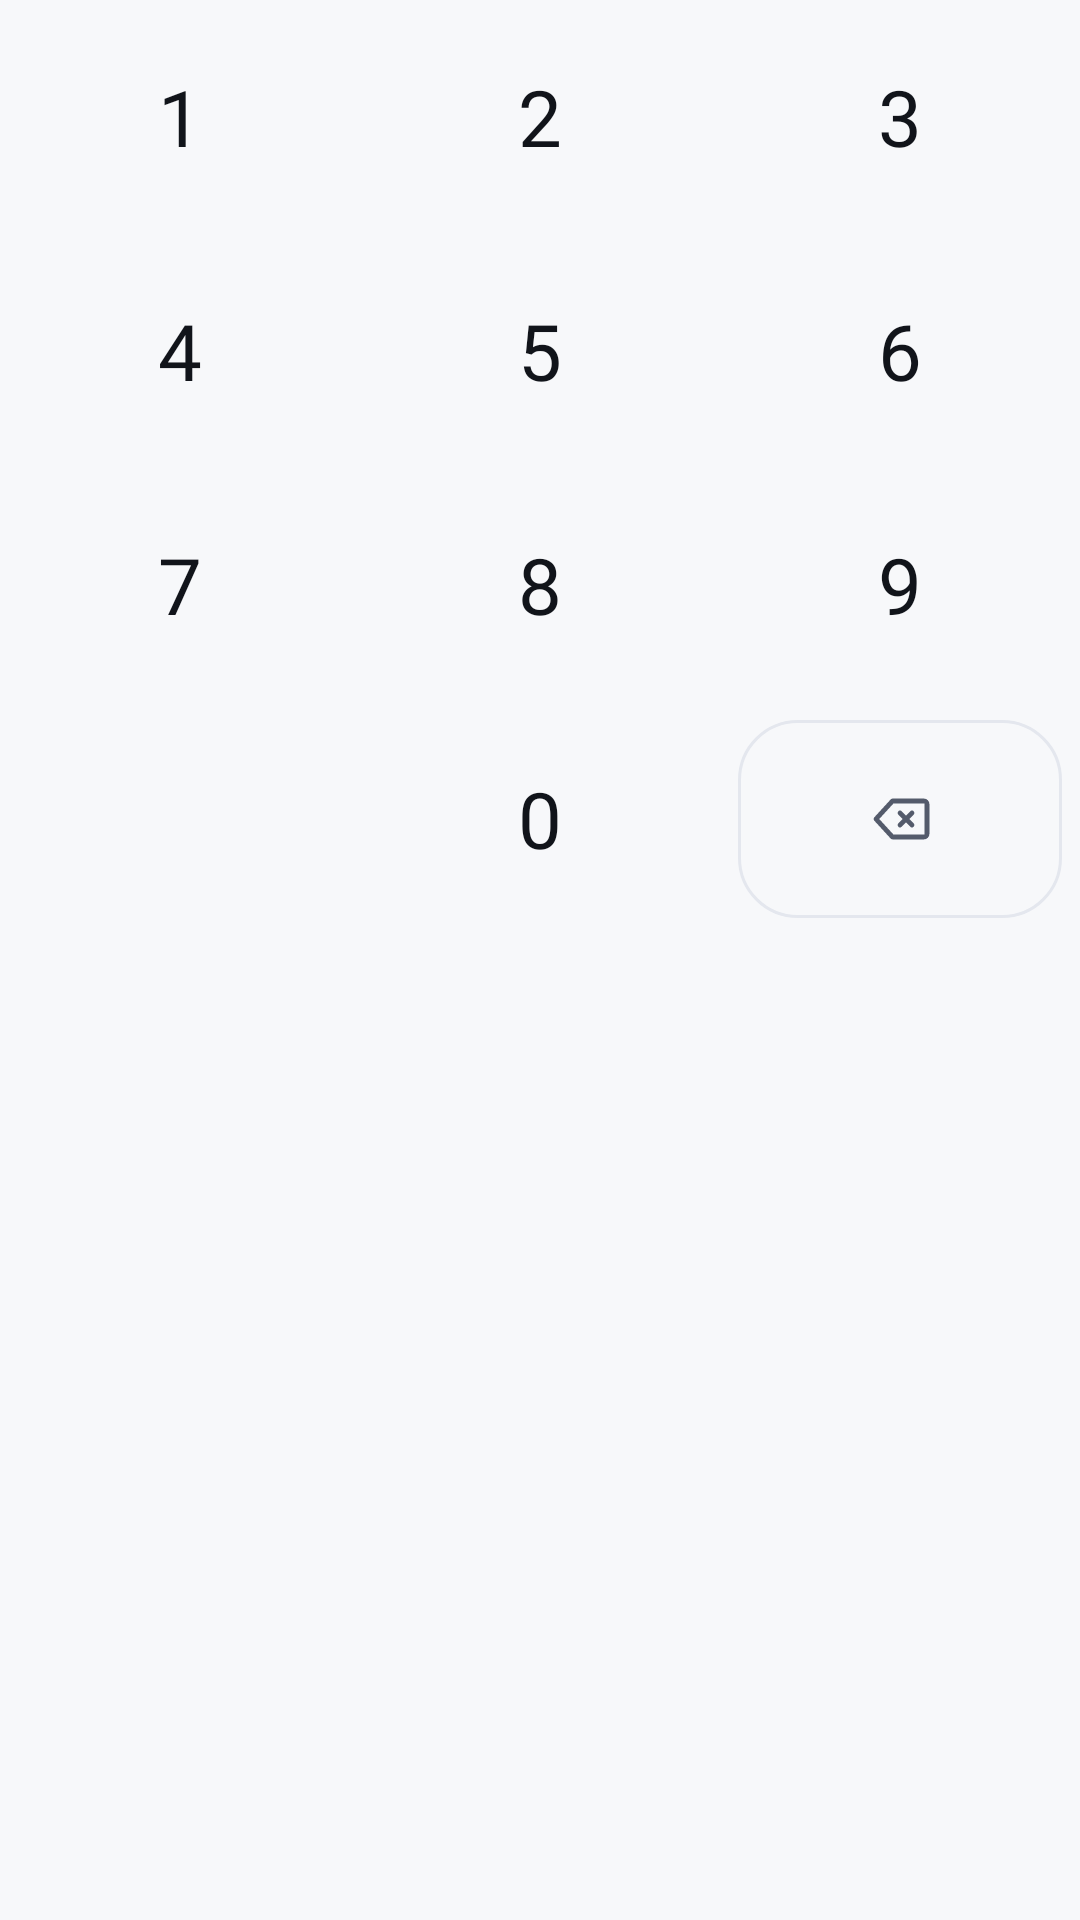

Icon bounding boxes for this 1080 x 1920 phone screenshot, format (x1, y1, x2, y2):
Delete: (873, 798, 930, 840)
